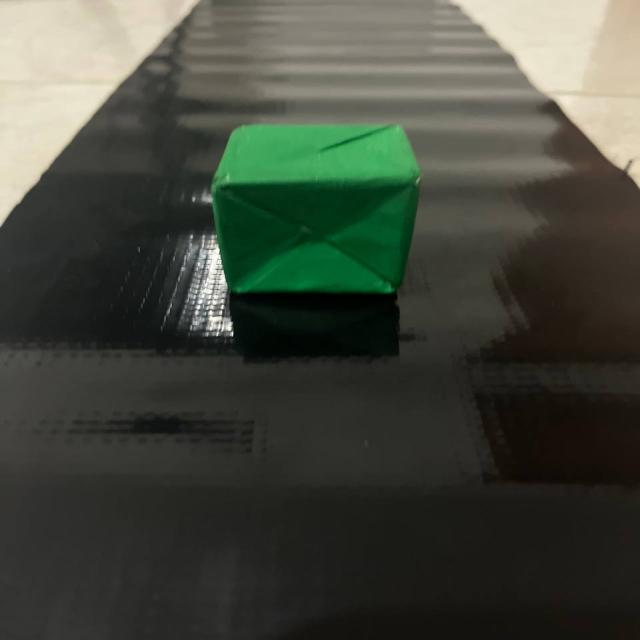Verde: (198, 110, 442, 314)
